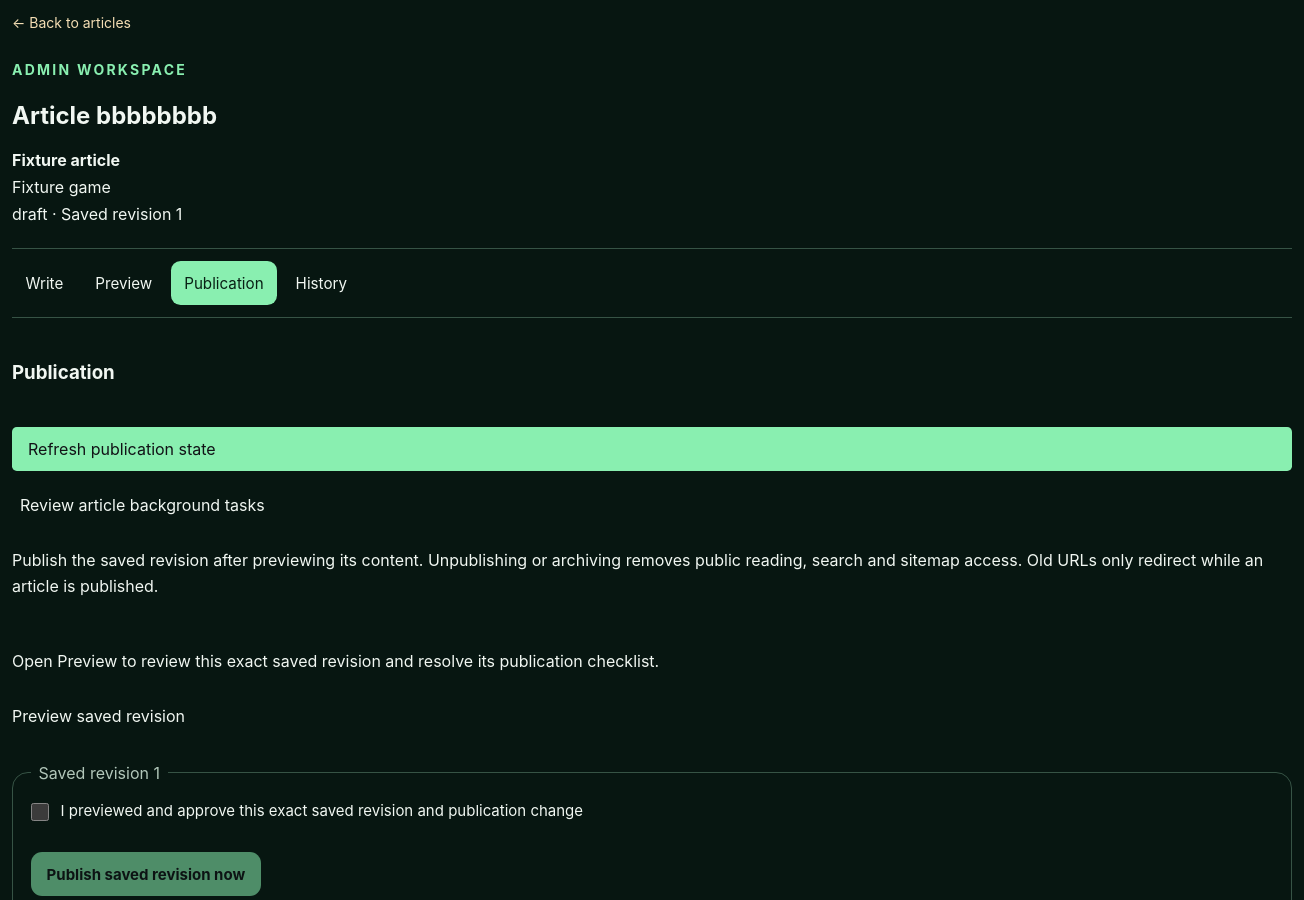
Test case: requires a successful exact saved preview before publication
Click the checkbox labelled "I previewed and approve this exact saved revision and publication change".
click(40, 812)  # box [31,804,49,822]
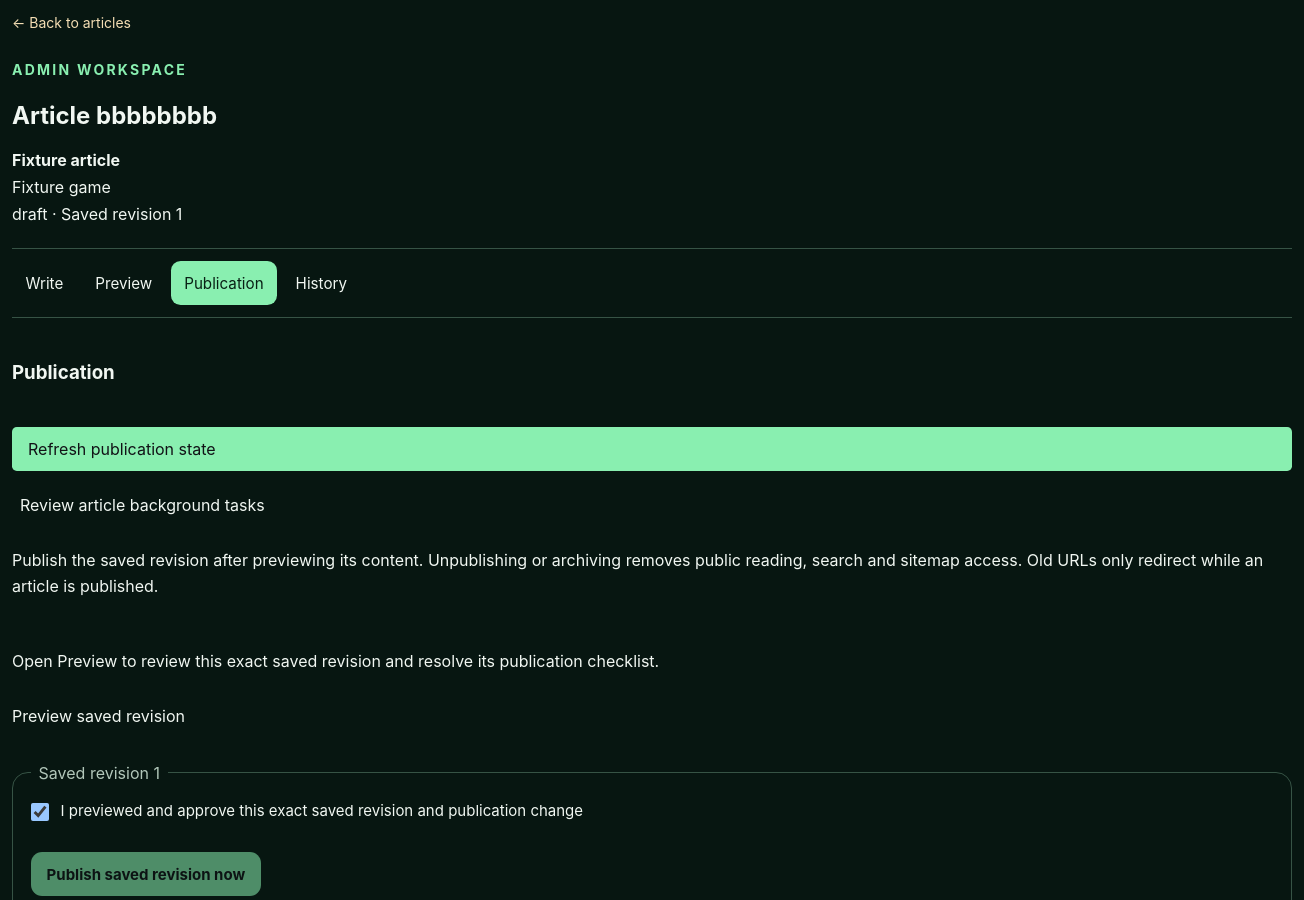
Expected: the button "Publish saved revision now" is disabled, [31,852,261,896]
Click the link "Preview".
click(124, 283)  # box [95,274,152,293]
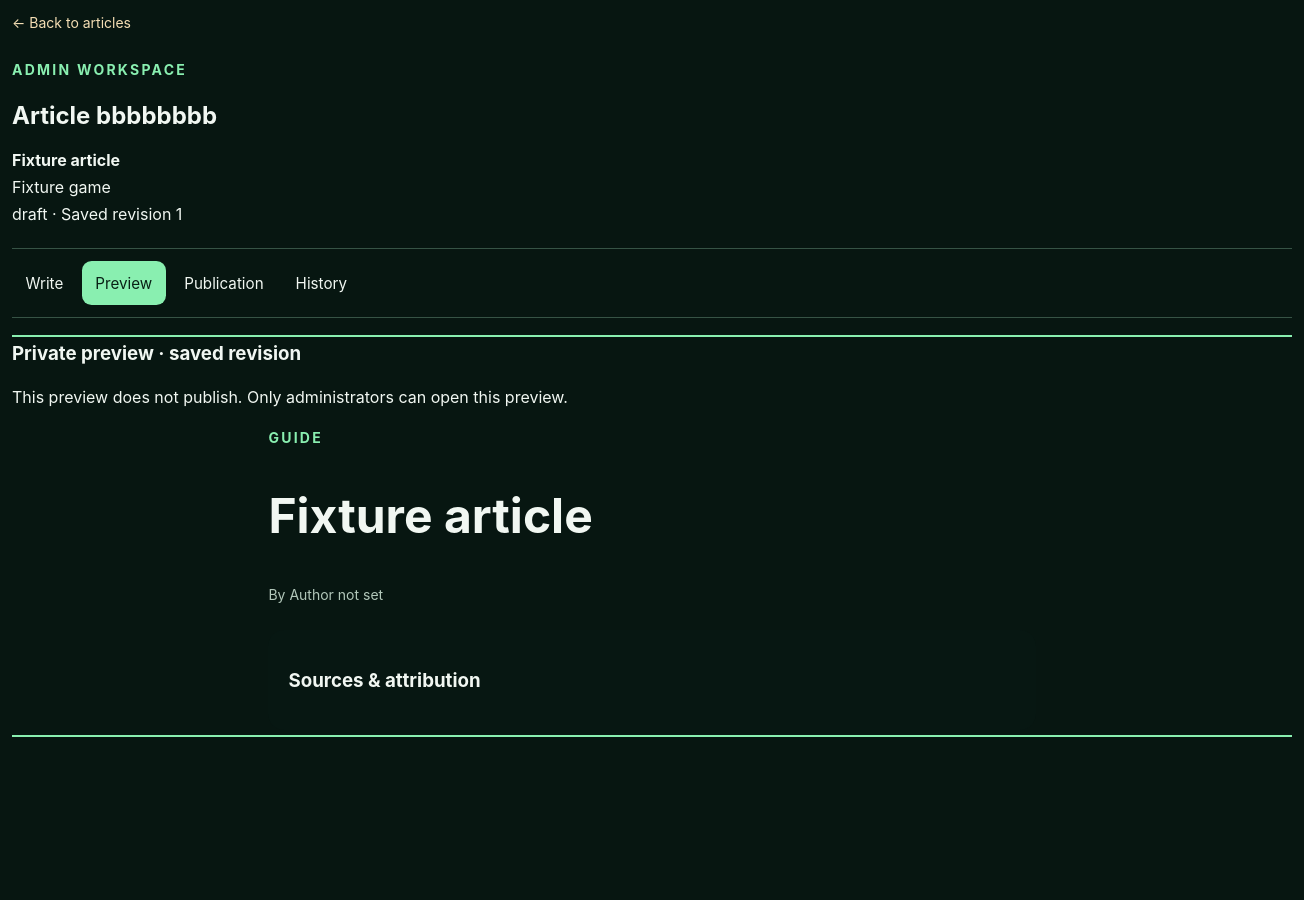
Expected: the heading "Fixture article" is shown, [268,486,593,545]
Click the link "Publication".
click(224, 283)  # box [184,274,264,293]
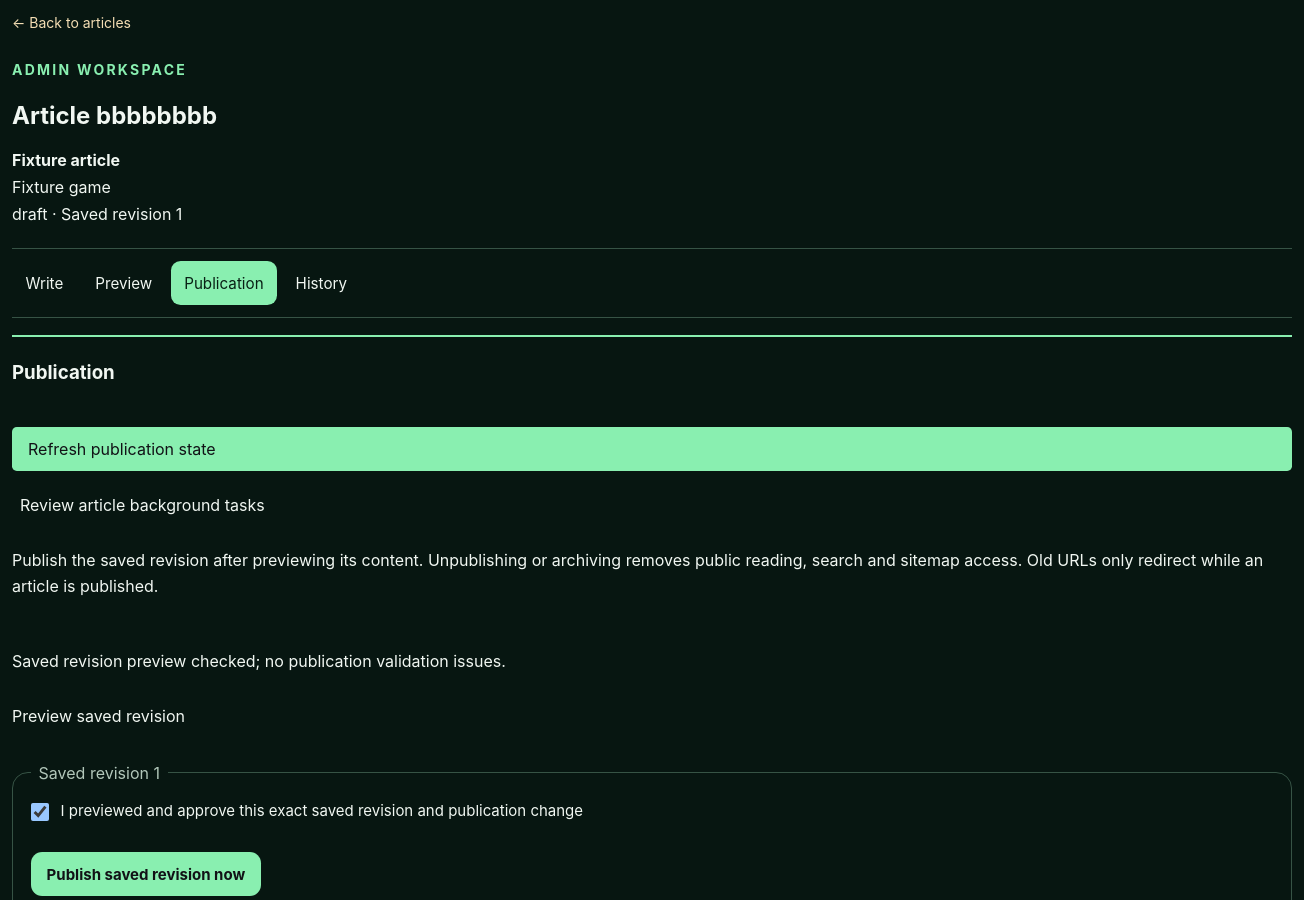
Expected: the button "Publish saved revision now" is enabled, [31,852,261,896]
